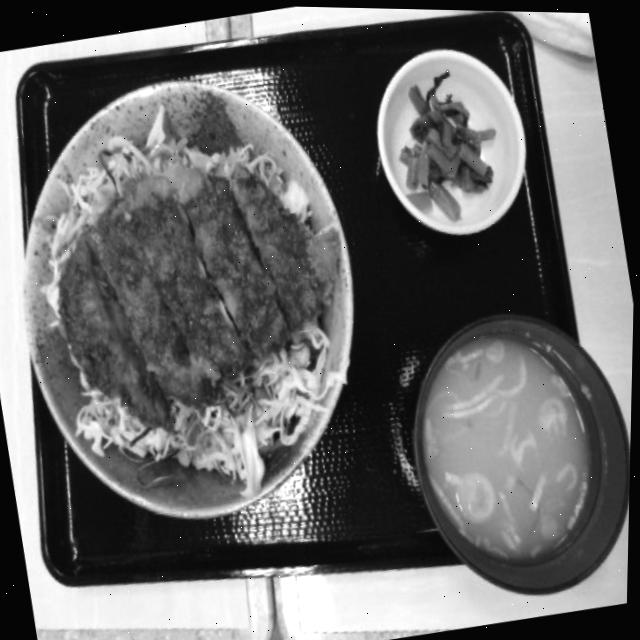汤锅炖物: (377, 260, 636, 631)
